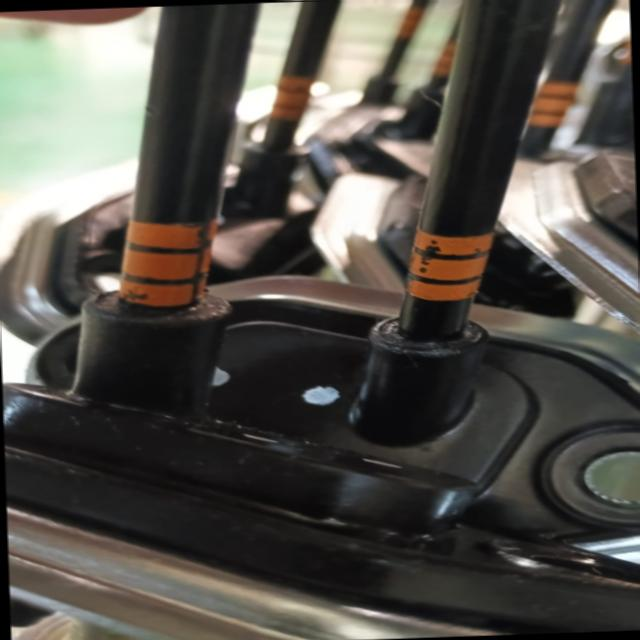orange: (116, 213, 214, 310), (398, 222, 484, 308)
